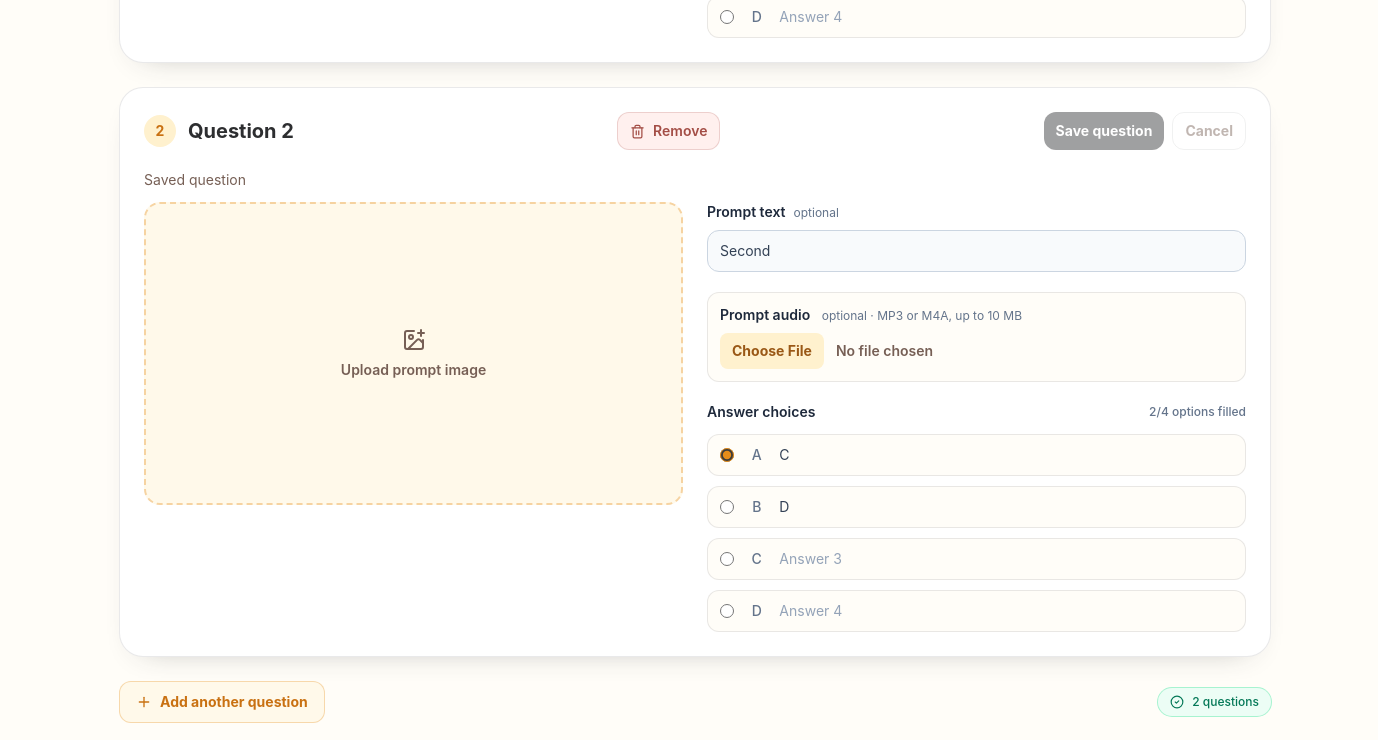
QuizEditor question save state › keeps Add Question local until explicit Save, then clears its unsaved state
(page scrolled)
Click the button "Add another question".
click(222, 702)  # box top-left (119, 681), bottom-right (325, 723)
(page scrolled)
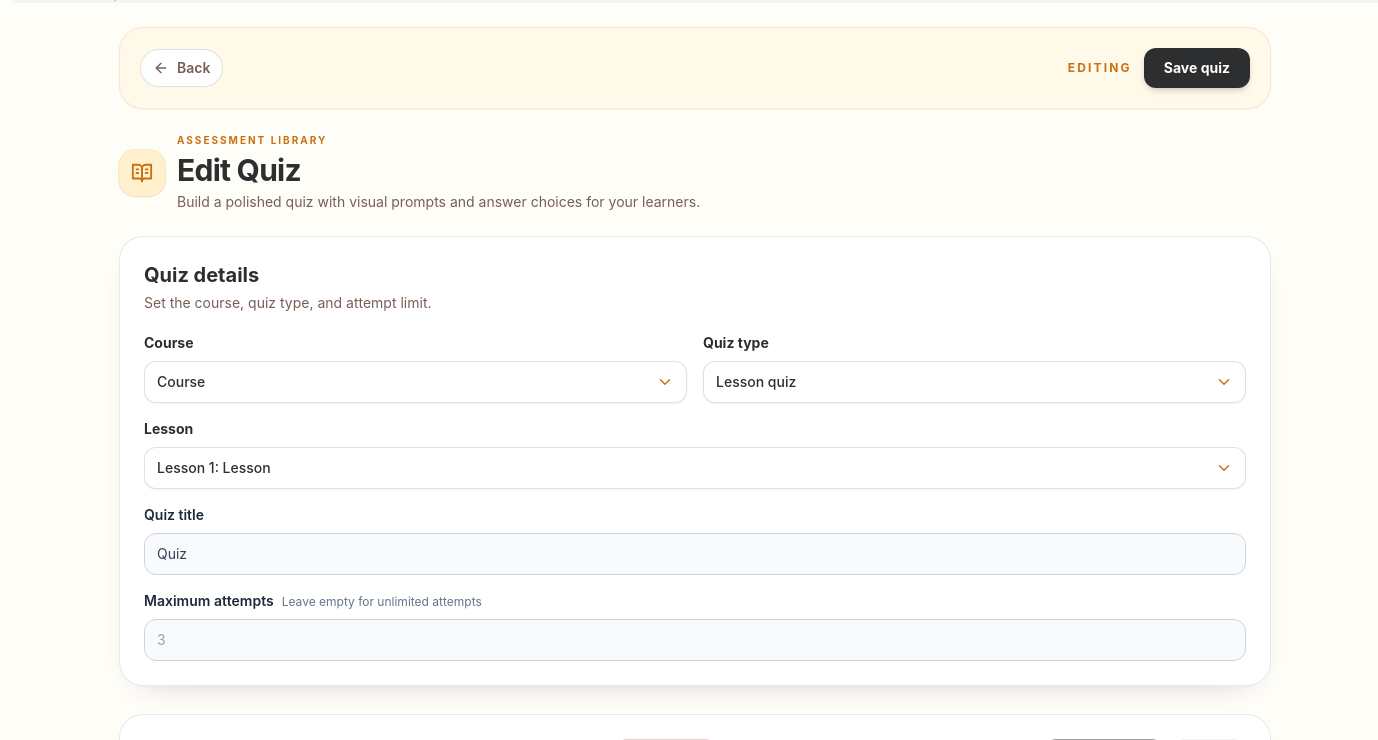
Click the button "Save quiz".
click(1197, 68)  # box top-left (1144, 48), bottom-right (1250, 88)
(page scrolled)
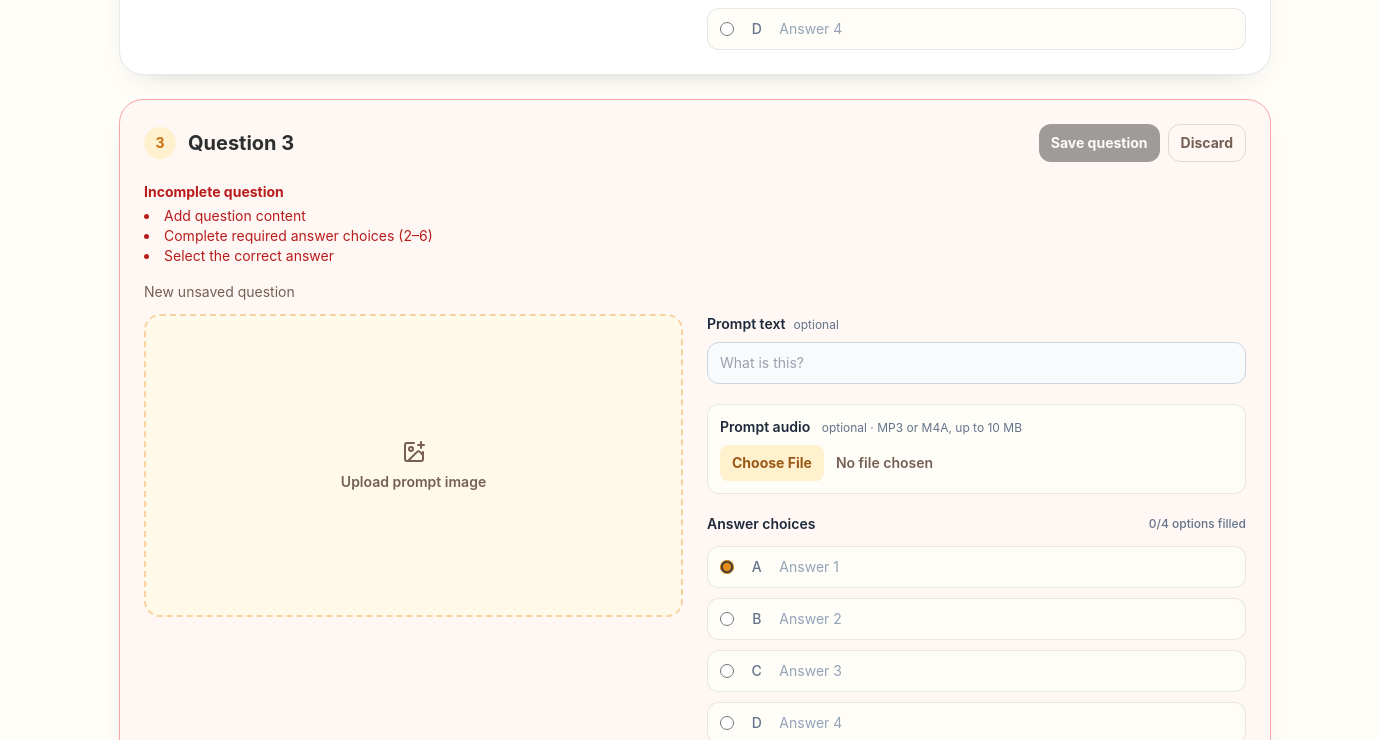
Type "A new question" into the field with placeholder "What is this?".
click(976, 363); type("A new question")  # box top-left (707, 342), bottom-right (1246, 384)
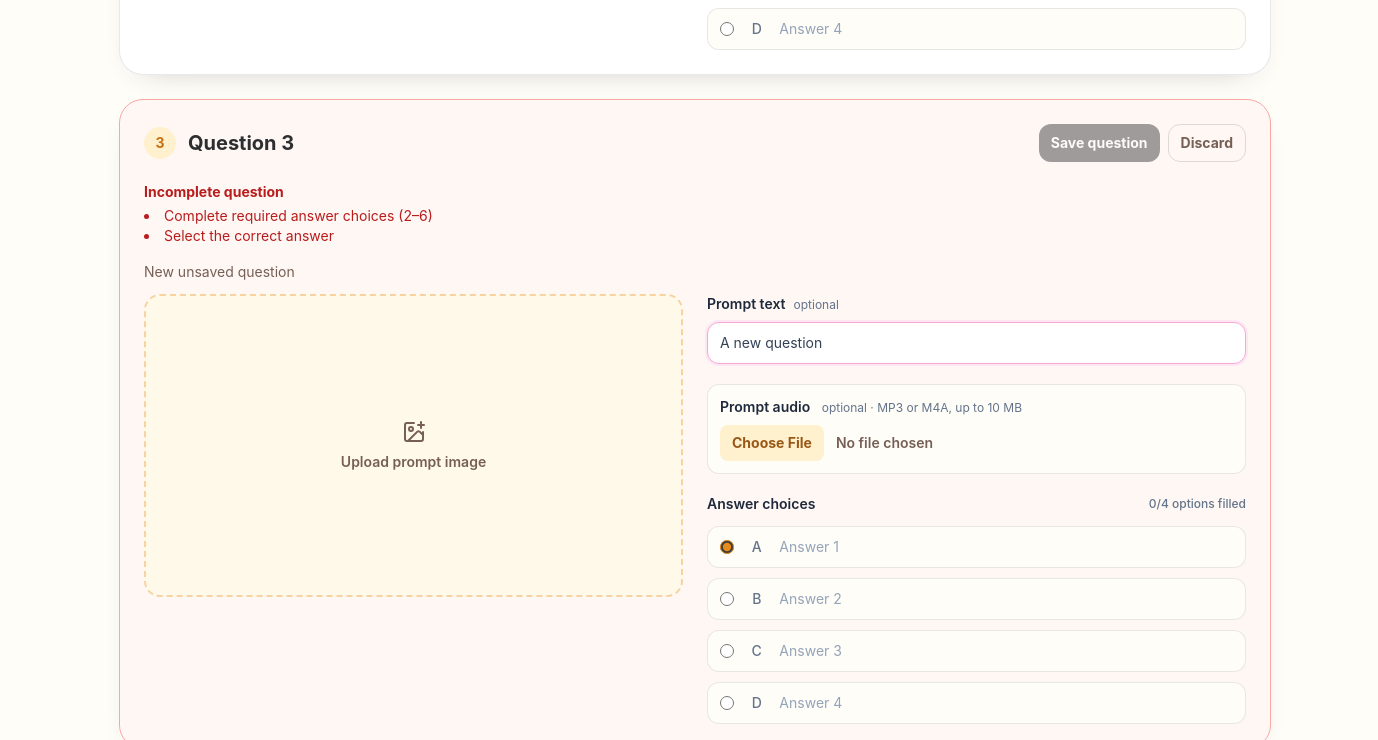
Type "Yes" into the field with placeholder "Answer 1".
click(1006, 547); type("Yes")  # box top-left (779, 537), bottom-right (1233, 557)
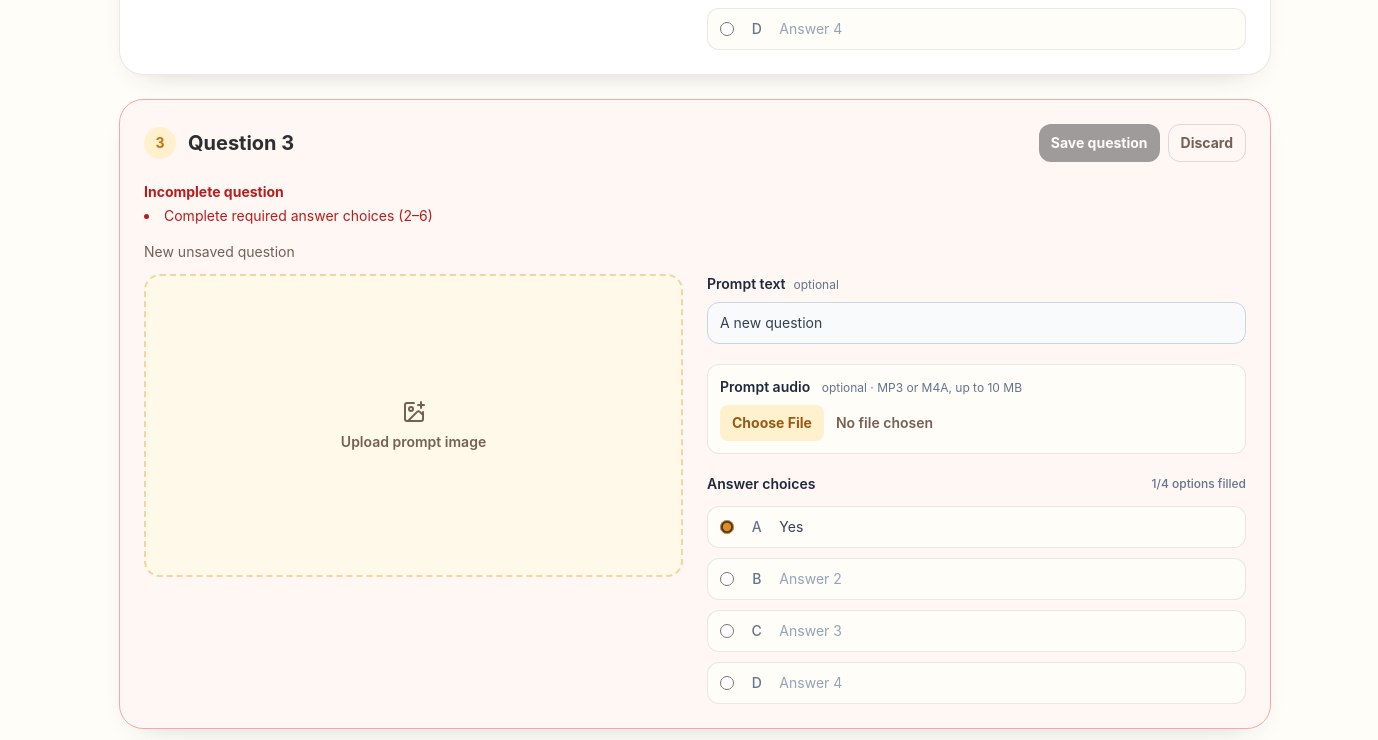
Type "No" into the field with placeholder "Answer 2".
click(1006, 579); type("No")  # box top-left (779, 569), bottom-right (1233, 589)
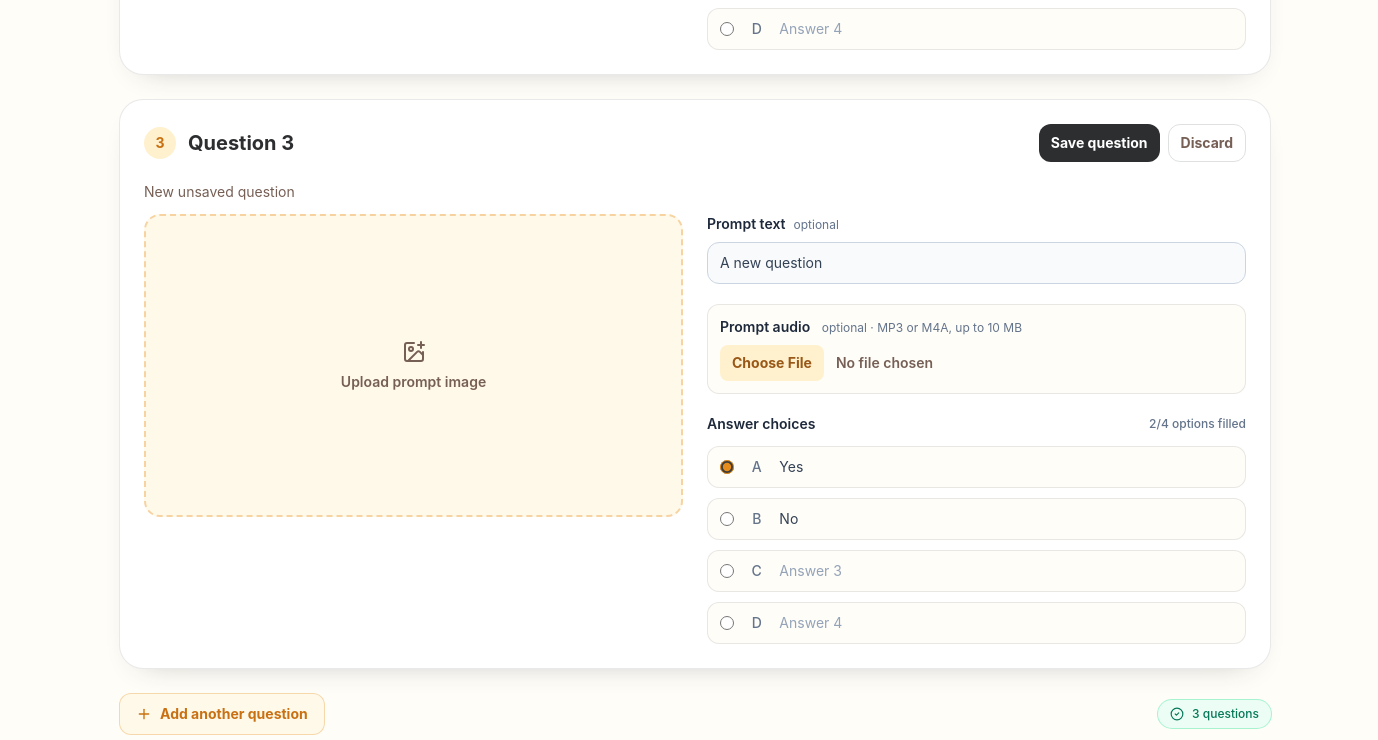
Click the button "Save question".
click(1099, 143)  # box top-left (1039, 124), bottom-right (1160, 162)
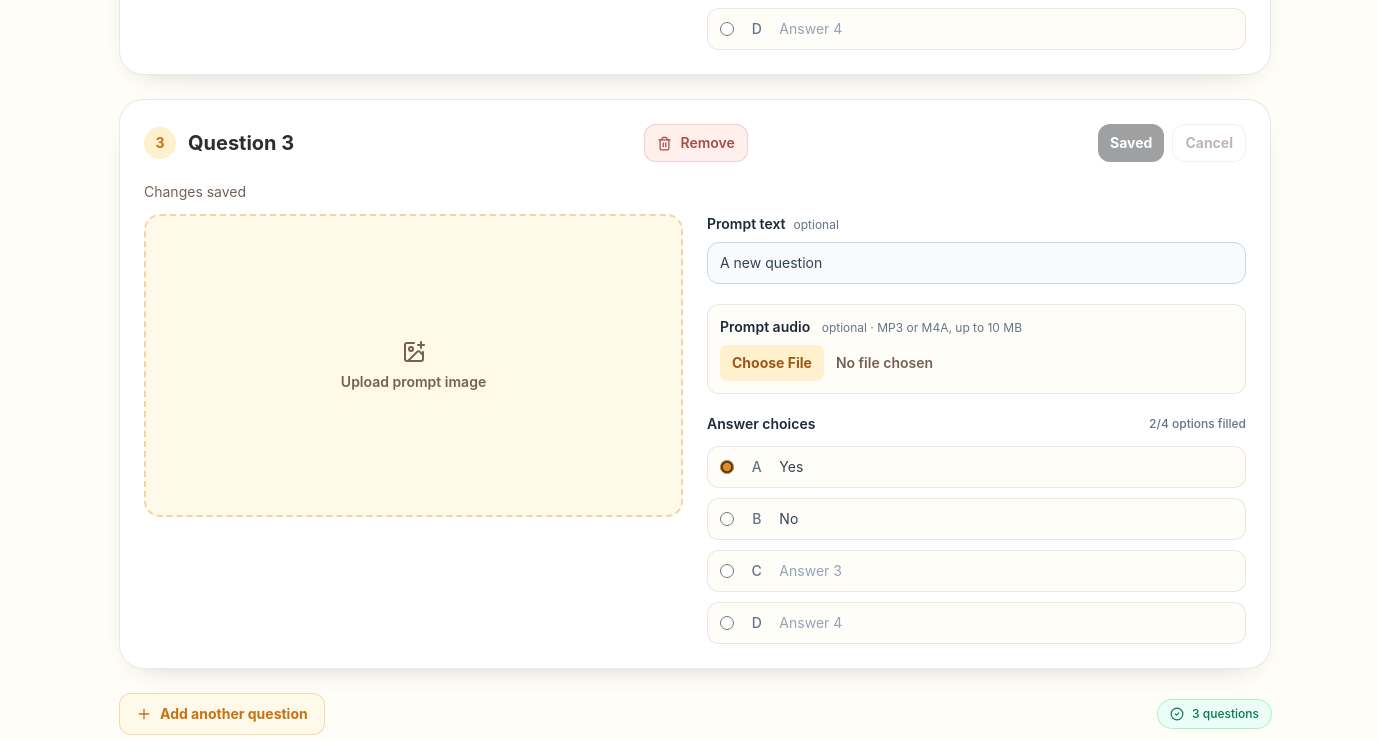
Now the text "Changes saved" is shown, box top-left (144, 183), bottom-right (246, 200)
